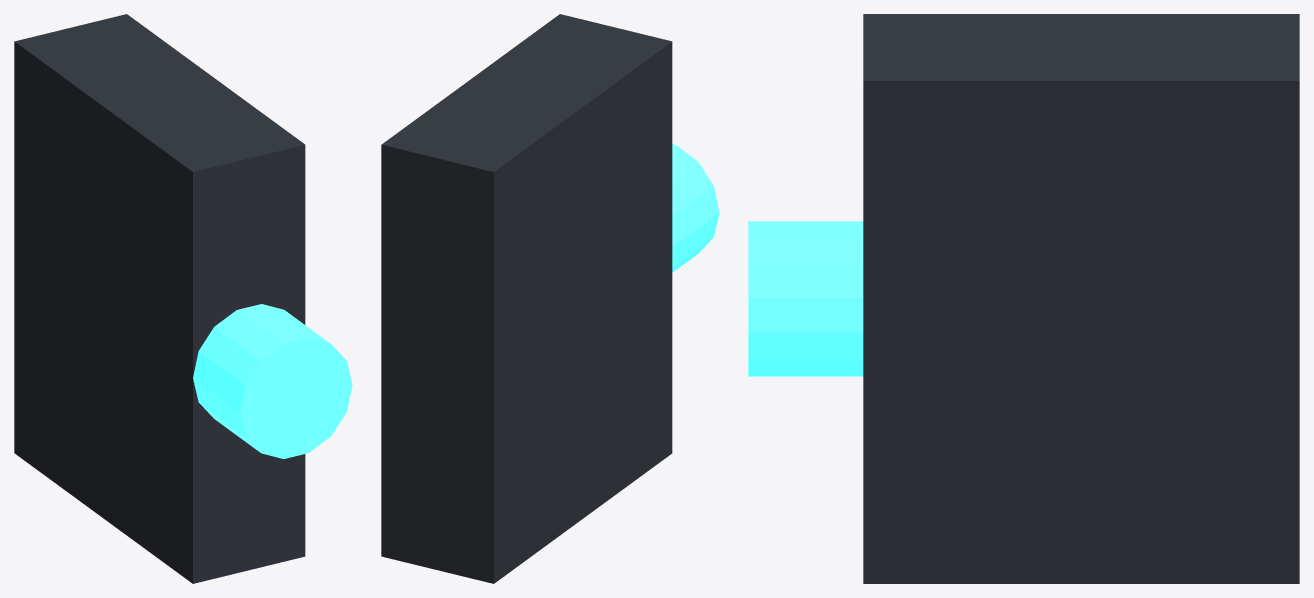
The model's file is temple_port.glb.
The picture shows the model from 3 angles, left to right: view 1: azimuth 30°, elevation 25°; view 2: azimuth 150°, elevation 25°; view 3: azimuth 270°, elevation 25°; orthographic projection. The views are drawn at different scales.
Parts seen in each view (by area): view 1: part_000, part_001; view 2: part_000, part_001; view 3: part_000, part_001.
Part boxes in pixels (bbox=[...]): part_000: bbox=[14, 14, 305, 583]; part_001: bbox=[193, 304, 352, 458]; part_000: bbox=[381, 14, 672, 583]; part_001: bbox=[672, 144, 719, 272]; part_000: bbox=[863, 14, 1299, 583]; part_001: bbox=[748, 221, 863, 376].
Size of the model in its own units: 0.02 by 0.07 by 0.0695.
